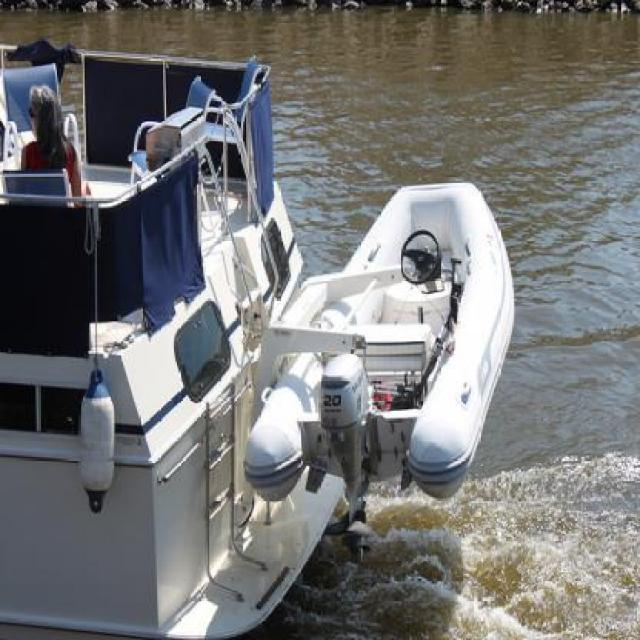ship: (7, 43, 344, 635), (248, 162, 528, 496)
